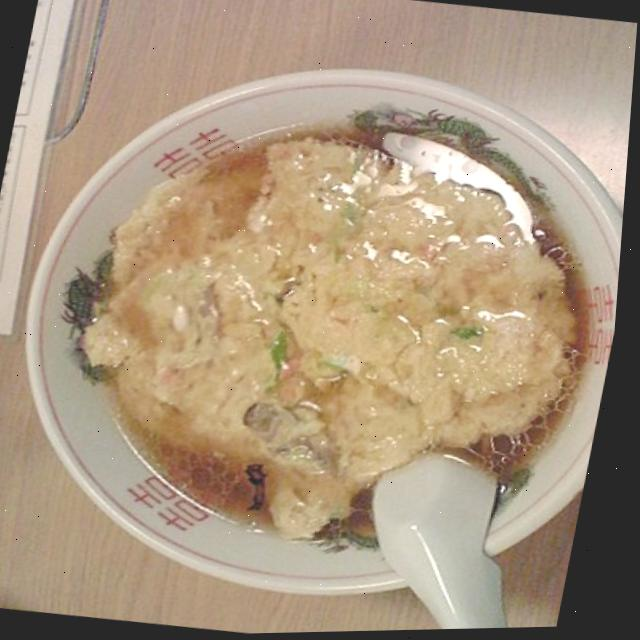面条主食: (23, 68, 635, 594)
